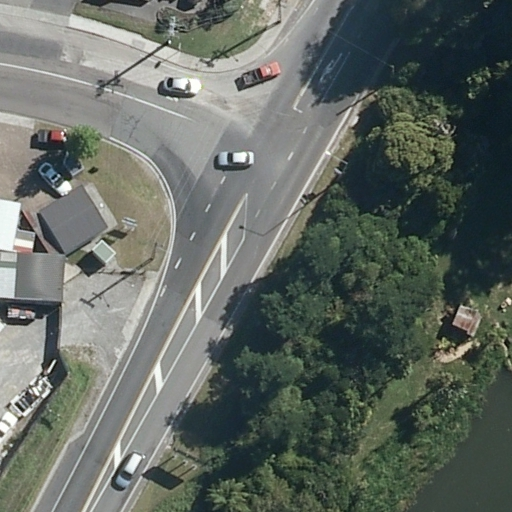DT: (160, 13, 184, 46), (145, 235, 166, 265), (383, 59, 402, 84), (272, 1, 288, 26)
